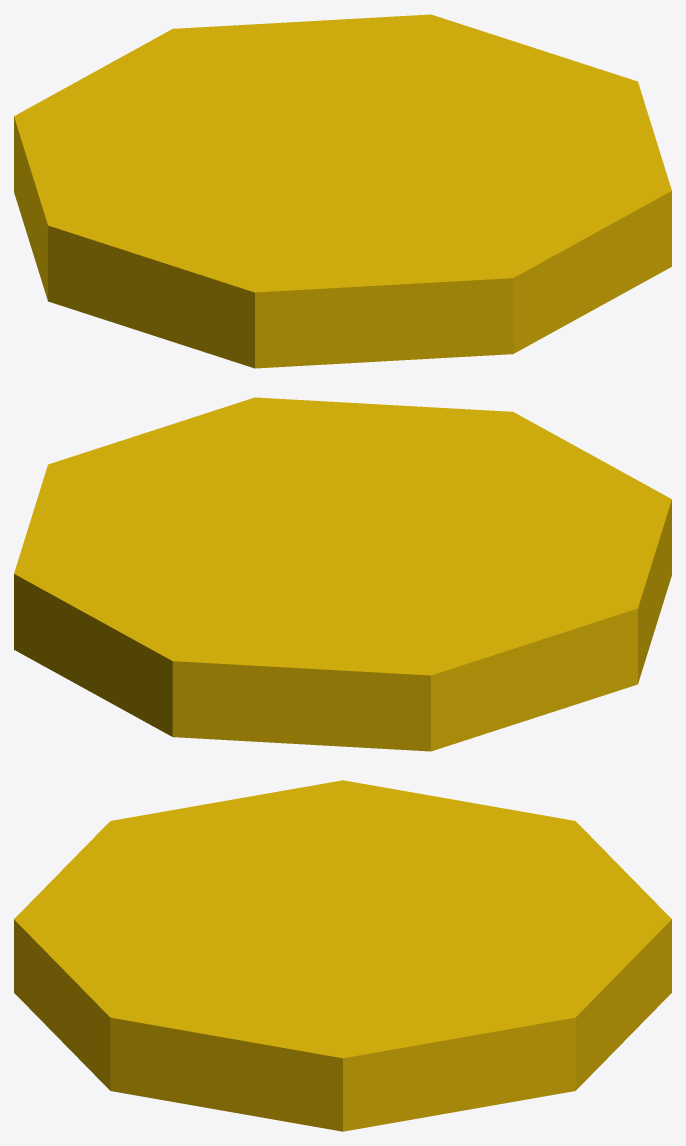
The model's file is coin.fbx.
3 renders of one model, top to bottom at view 1: azimuth 30°, elevation 25°; view 2: azimuth 150°, elevation 25°; view 3: azimuth 270°, elevation 25°, orthographic. The views are drawn at different scales.
Visible parts, largest first — view 1: Coin; view 2: Coin; view 3: Coin.
Part boxes in pixels (<box>): Coin: <box>14,14,671,368</box>; Coin: <box>14,397,671,751</box>; Coin: <box>14,780,671,1131</box>.
Bounding box in the file's own units: 200 × 24.61 × 200.
